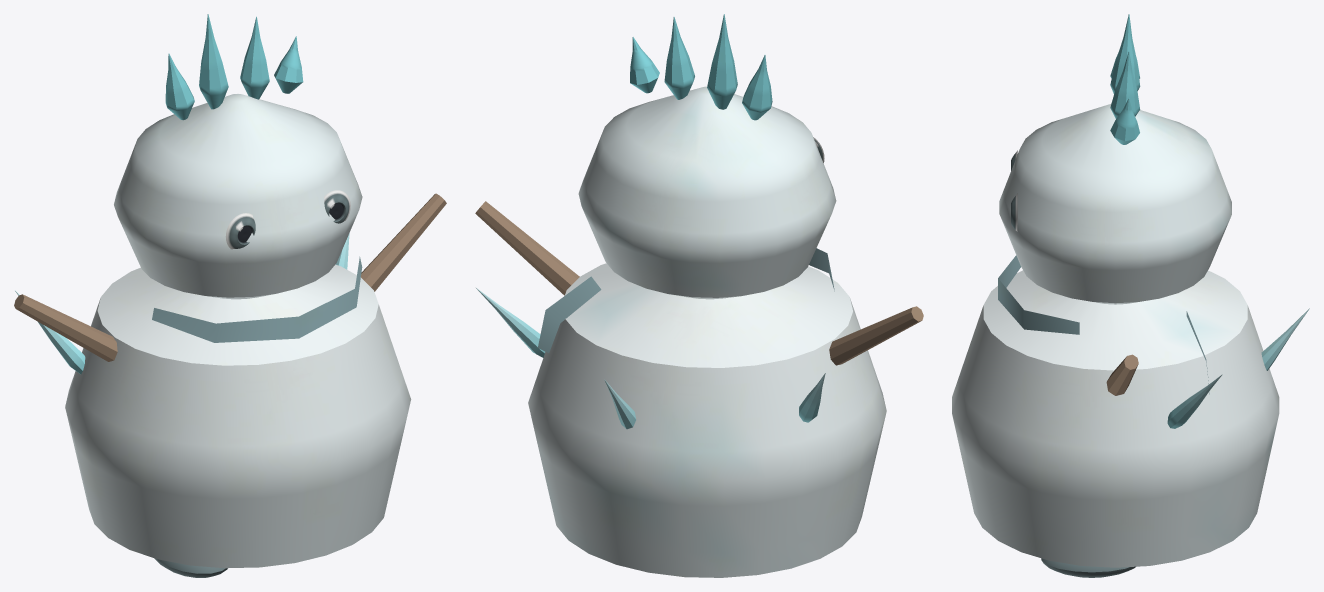
File: sp_yukidama-dj1h27tb.glb
The picture shows the model from 3 angles, left to right: view 1: azimuth 30°, elevation 25°; view 2: azimuth 150°, elevation 25°; view 3: azimuth 270°, elevation 25°; orthographic projection. The views are drawn at different scales.
Parts seen in each view (by area): view 1: Body, HeadMesh, Crown, Arms, BackIcicles, Feet; view 2: Body, HeadMesh, Crown, Arms, BackIcicles; view 3: Body, HeadMesh, Crown, BackIcicles, Feet, Arms.
Part boxes in pixels (box(x1,y1,x2,y2)): Body: box(65, 264, 411, 568); HeadMesh: box(114, 94, 362, 342); Crown: box(165, 14, 303, 120); Arms: box(14, 193, 446, 361); BackIcicles: box(15, 233, 349, 374); Feet: box(154, 558, 227, 577); Body: box(528, 263, 886, 577); HeadMesh: box(538, 86, 836, 352); Crown: box(630, 14, 772, 120); Arms: box(475, 201, 923, 365); BackIcicles: box(476, 288, 825, 429); Body: box(952, 270, 1279, 567); HeadMesh: box(998, 104, 1231, 394); Crown: box(1110, 14, 1140, 144); BackIcicles: box(1167, 308, 1309, 428); Feet: box(1041, 558, 1135, 577); Arms: box(1106, 354, 1138, 395).
Size of the model in its own units: 0.6118 by 0.7293 by 0.4517.
1 material, 1 textured.
